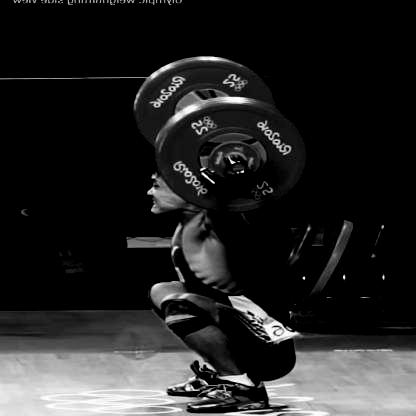Barbell: (224, 158, 250, 179)
